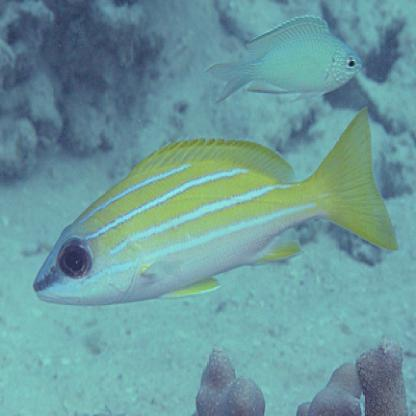Bio: (31, 104, 400, 309)
